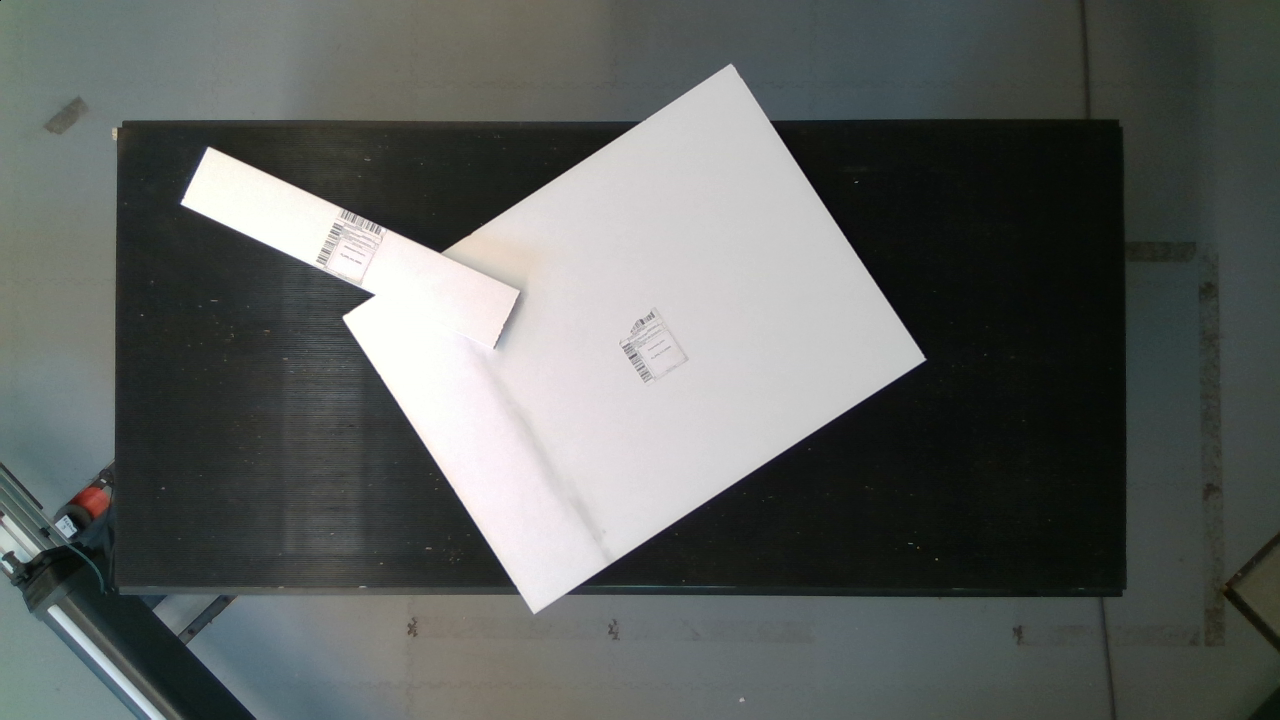barcode: (606, 303, 700, 389), (314, 202, 389, 287)
part1: (173, 137, 517, 360)
part2: (335, 54, 956, 617)
